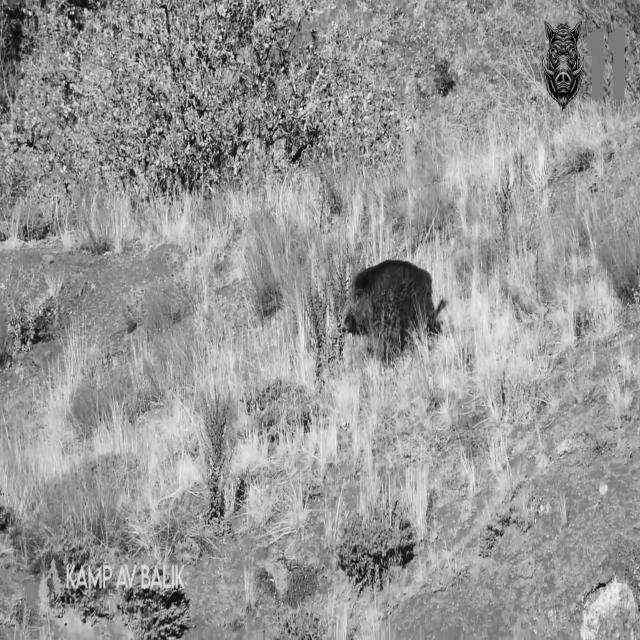boar: (344, 260, 445, 353)
